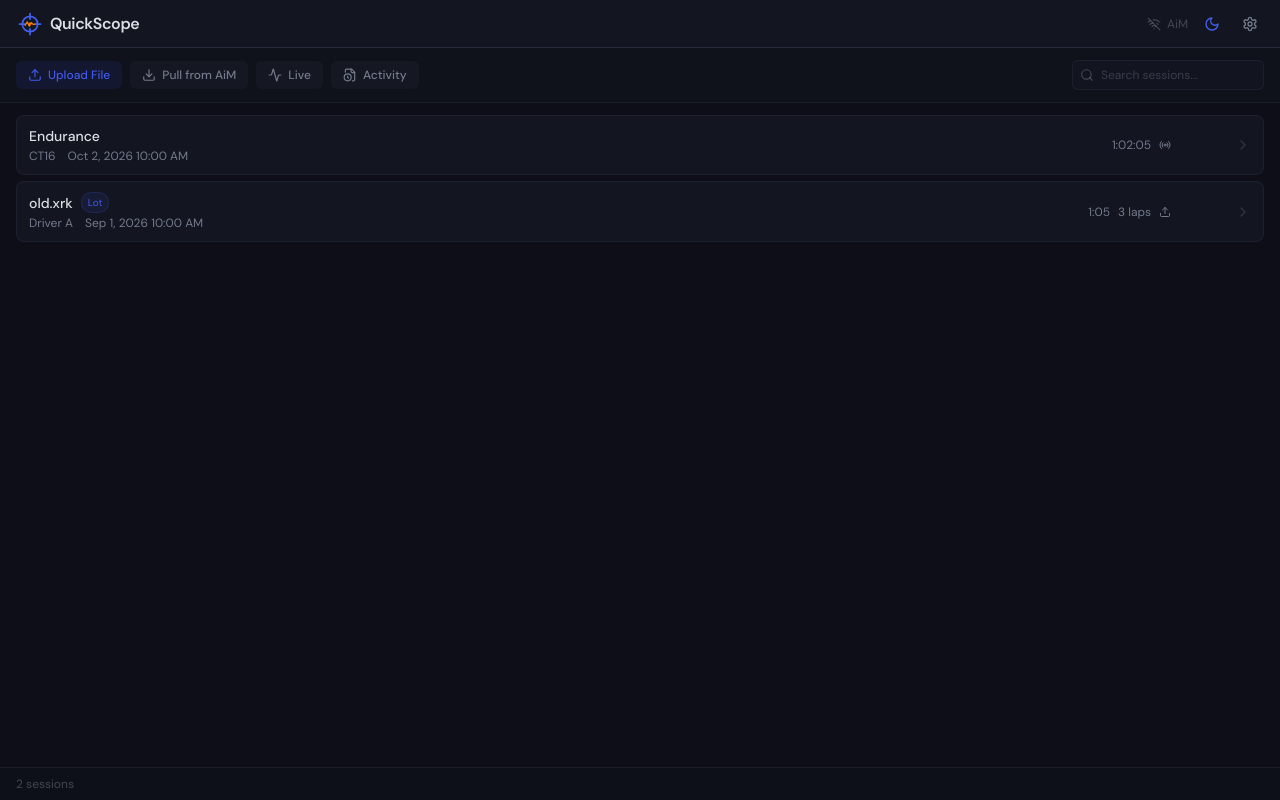
Test case: SessionBrowser › shows and dismisses load errors
Click the text "old.xrk" at (51, 202), box [29,192,73,212]
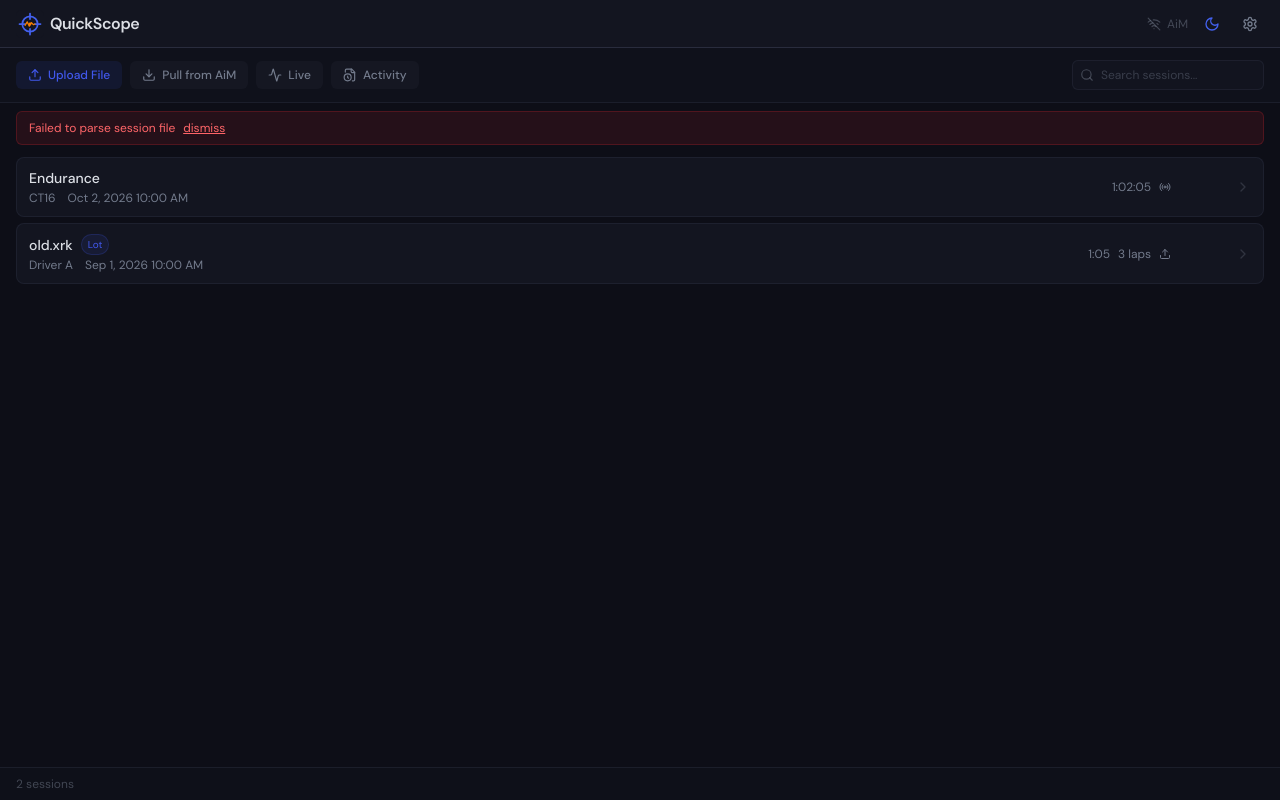
Check: the text "Failed to parse session file" is shown, box [29,120,175,136]
Click the button "dismiss" at (204, 128), box [183,120,225,136]
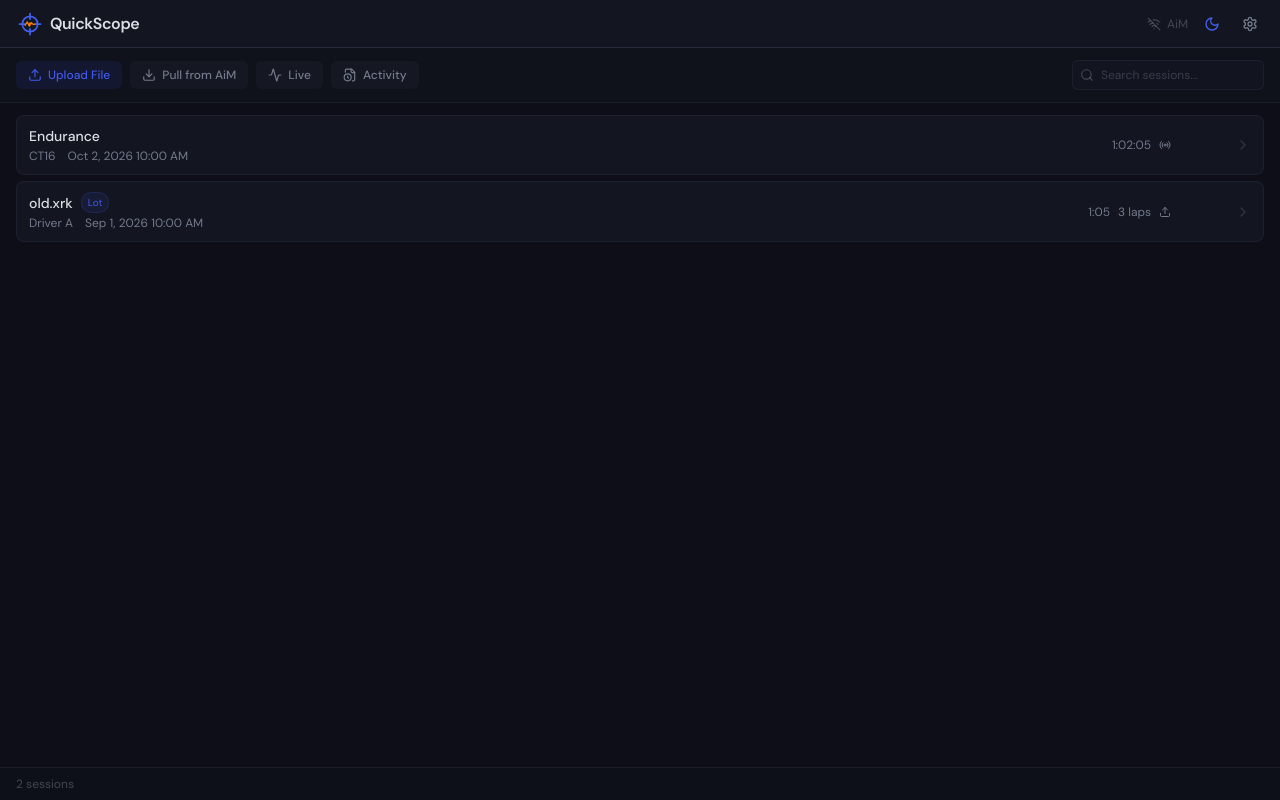
Check: the text "Failed to parse session file" is gone
